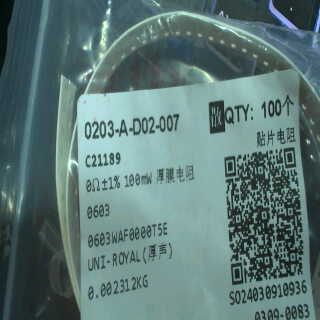0R: (78, 170, 155, 218)
